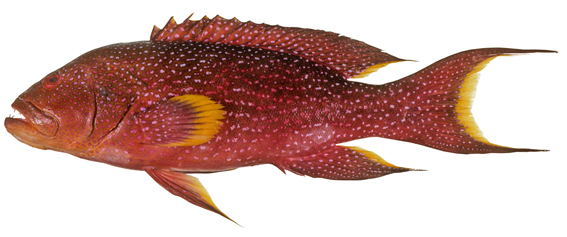fish: (4, 12, 559, 228)
